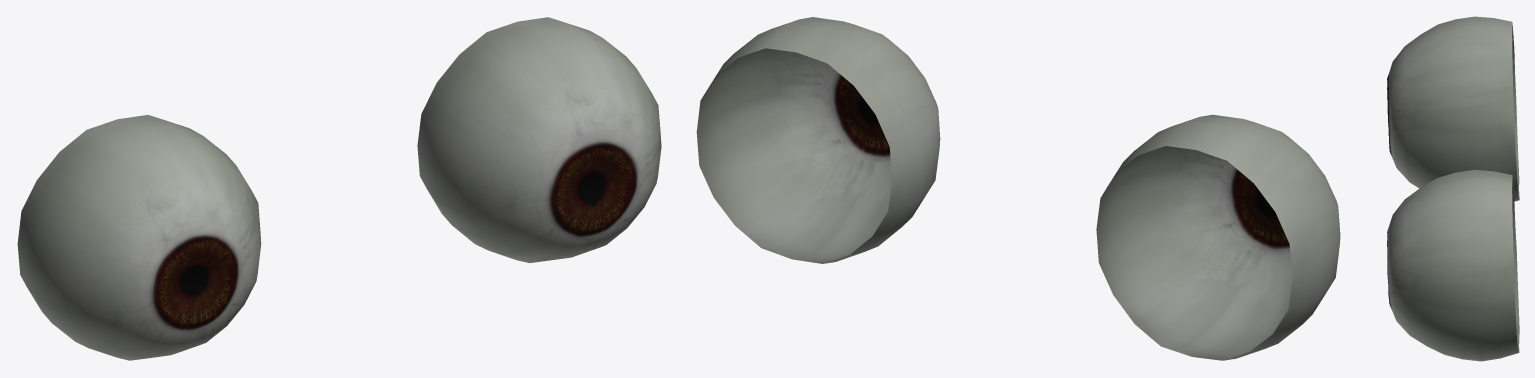
The model's file is eyes.glb.
3 renders of one model, left to right at view 1: azimuth 30°, elevation 25°; view 2: azimuth 150°, elevation 25°; view 3: azimuth 270°, elevation 25°, orthographic. The views are drawn at different scales.
Parts seen in each view (by area): view 1: Human.high-poly; view 2: Human.high-poly; view 3: Human.high-poly.
Part boxes in pixels (bbox=[...]): Human.high-poly: bbox=[17, 17, 661, 360]; Human.high-poly: bbox=[696, 17, 1340, 360]; Human.high-poly: bbox=[1387, 16, 1519, 361].
Size of the model in its own units: 0.0889 by 0.031 by 0.0237.
Materials: 1 (1 with a texture image).
